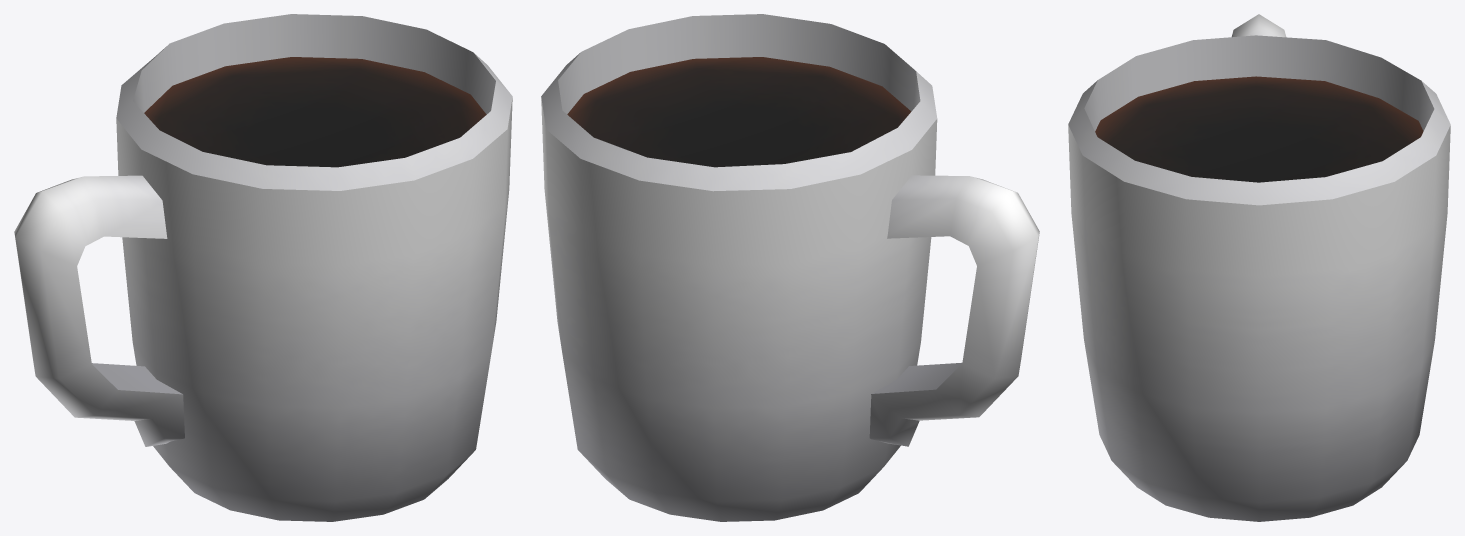
Rendered from m_Mug01_Coffee01.fbx.
3 renders of one model, left to right at view 1: azimuth 30°, elevation 25°; view 2: azimuth 150°, elevation 25°; view 3: azimuth 270°, elevation 25°, orthographic. The views are drawn at different scales.
Visible parts, largest first — view 1: m_Mug01_Coffee01; view 2: m_Mug01_Coffee01; view 3: m_Mug01_Coffee01.
Part boxes in pixels (left/top/right/bottom): m_Mug01_Coffee01: left=14, top=14, right=512, bottom=521; m_Mug01_Coffee01: left=541, top=14, right=1039, bottom=521; m_Mug01_Coffee01: left=1068, top=14, right=1450, bottom=521.
Size of the model in its own units: 15.22 by 11.5 by 11.16.
